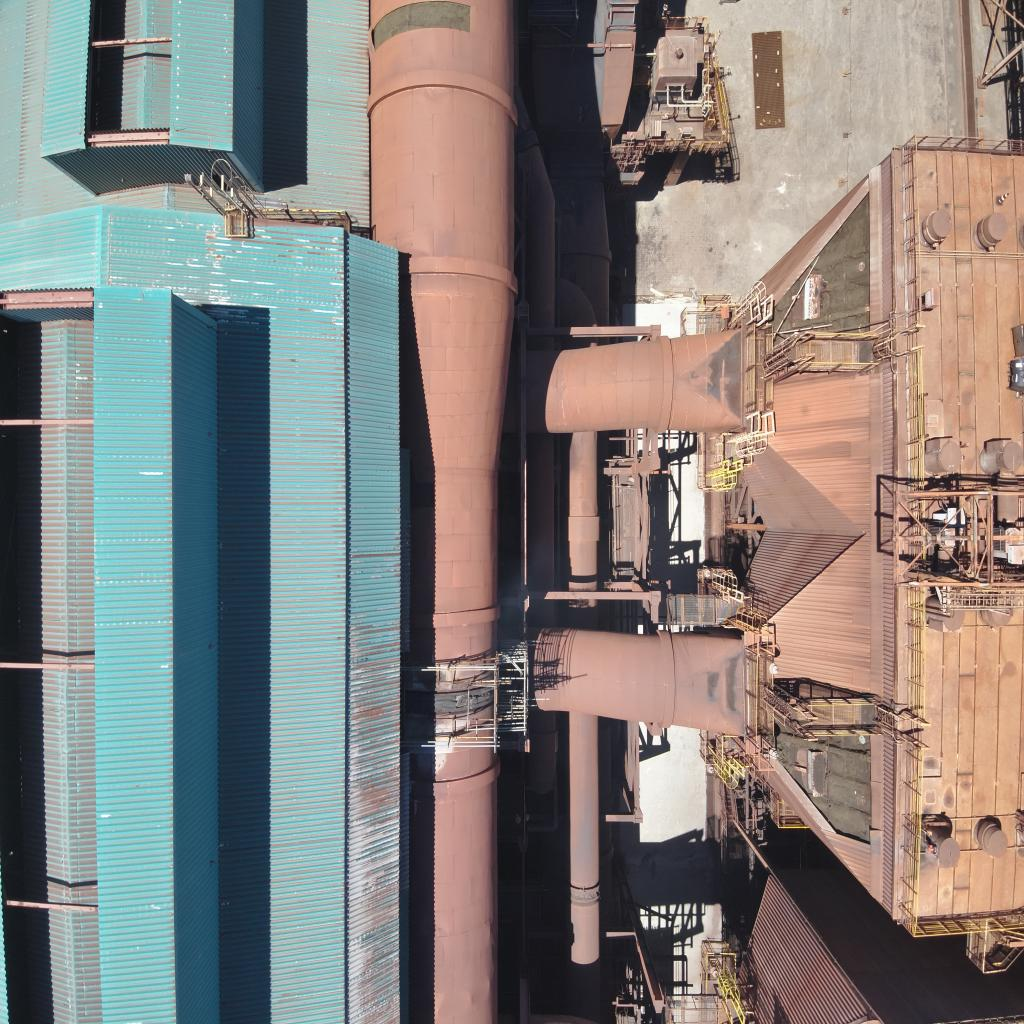Failures: (762, 191, 876, 345), (763, 713, 875, 851), (370, 0, 475, 52), (404, 680, 506, 724)
